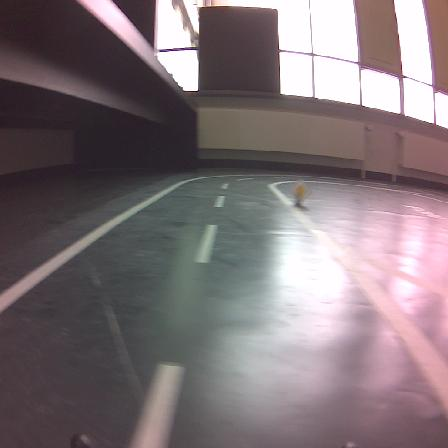PRIORITY_ROAD: (291, 178, 312, 204)
